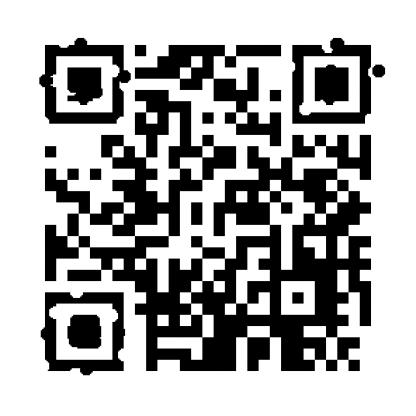qr: (41, 40, 379, 386)
